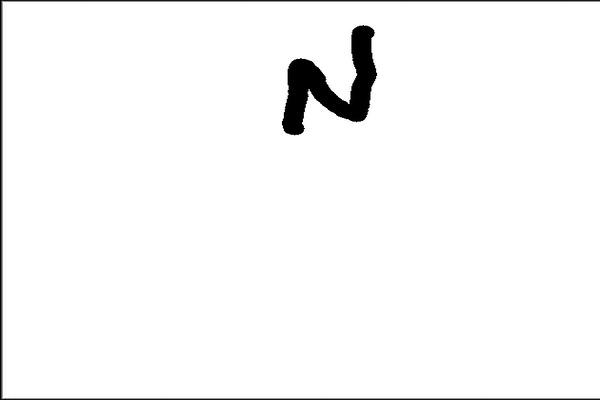N: (277, 22, 381, 137)
